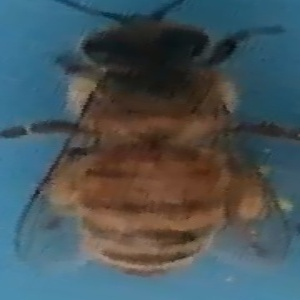bee: (13, 2, 298, 285)
